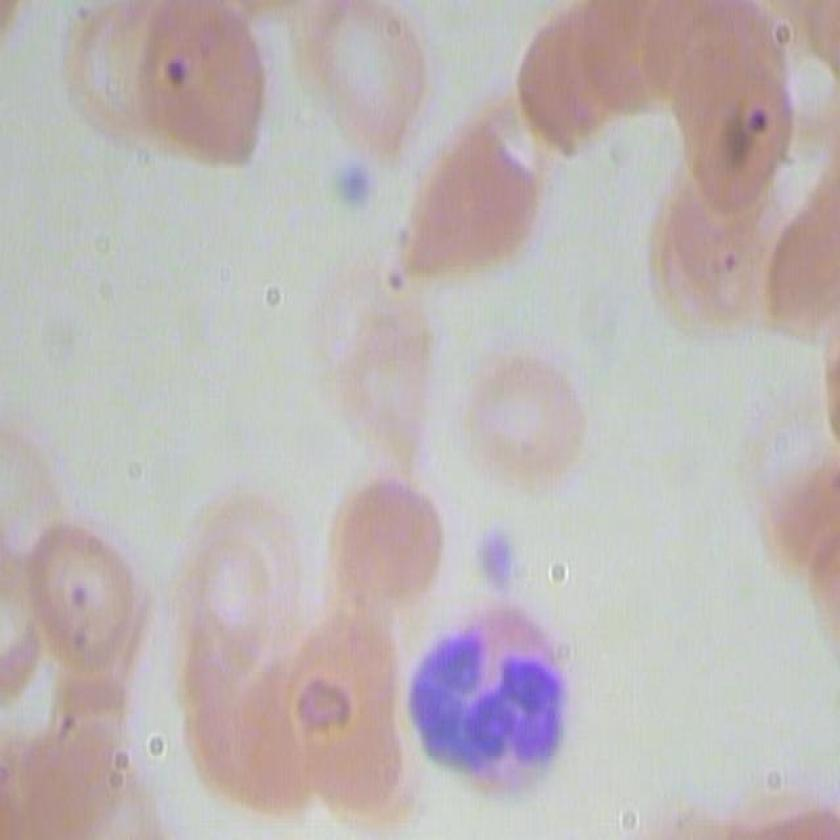neutrophil: (402, 598, 575, 794)
